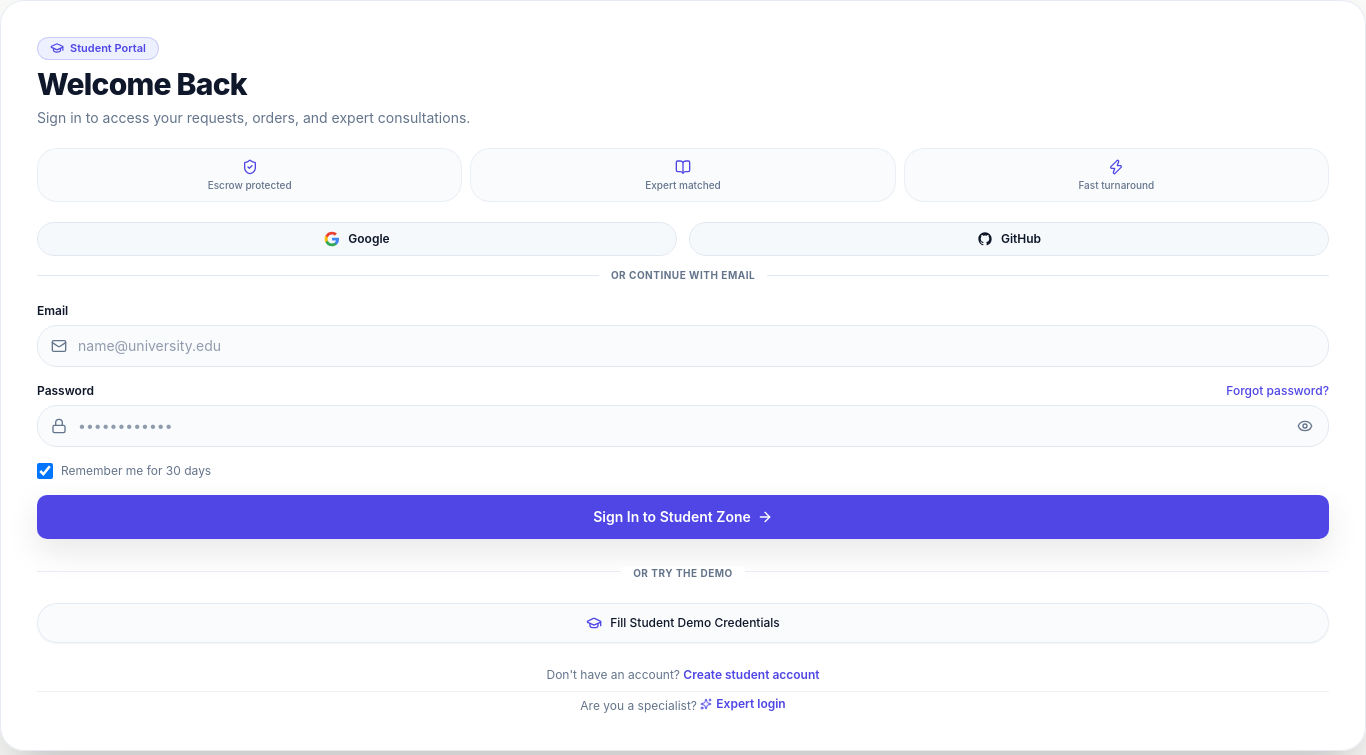
Scenario: login page › maps throttled attempts
Type "student@demo.local" into the field labelled "Email". click: (683, 346)
box: [37,325,1329,367]
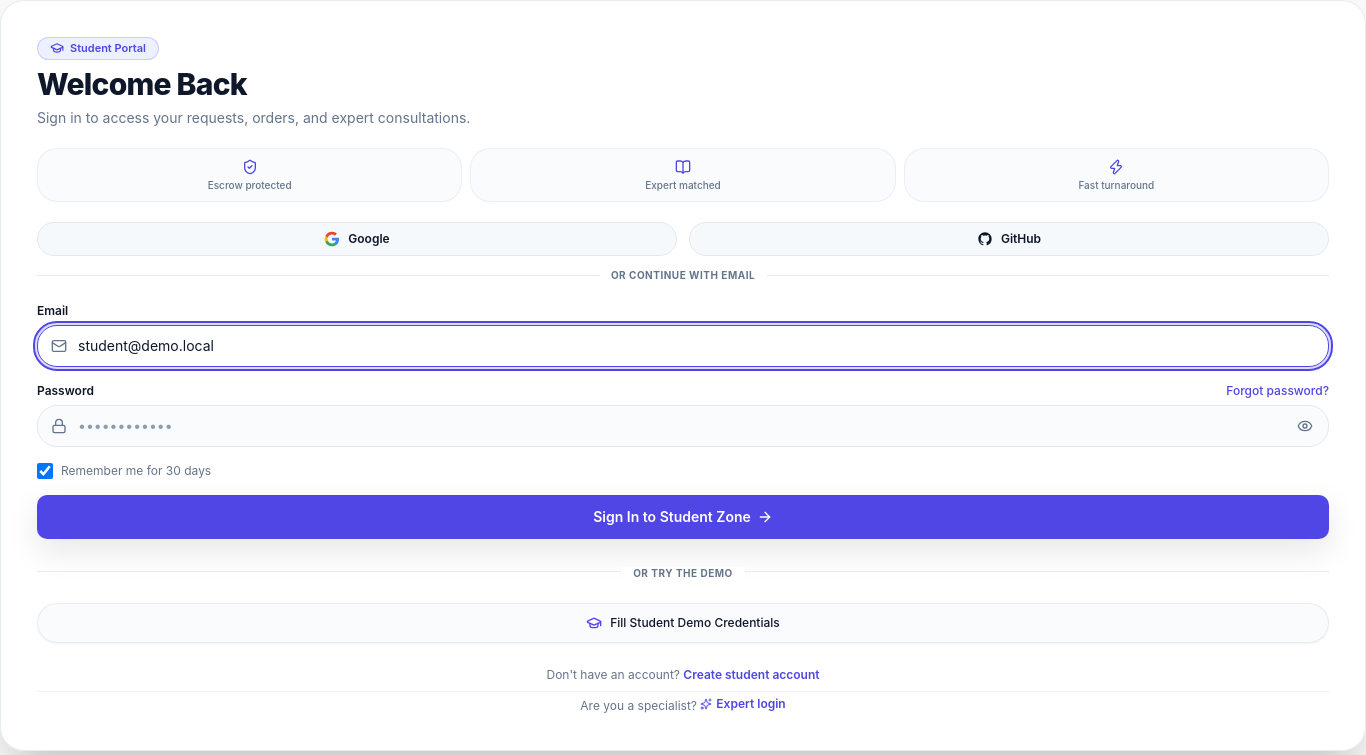
Type "demo-password-1234" into the password field labelled "Password". click: (683, 426)
box: [37,405,1329,447]
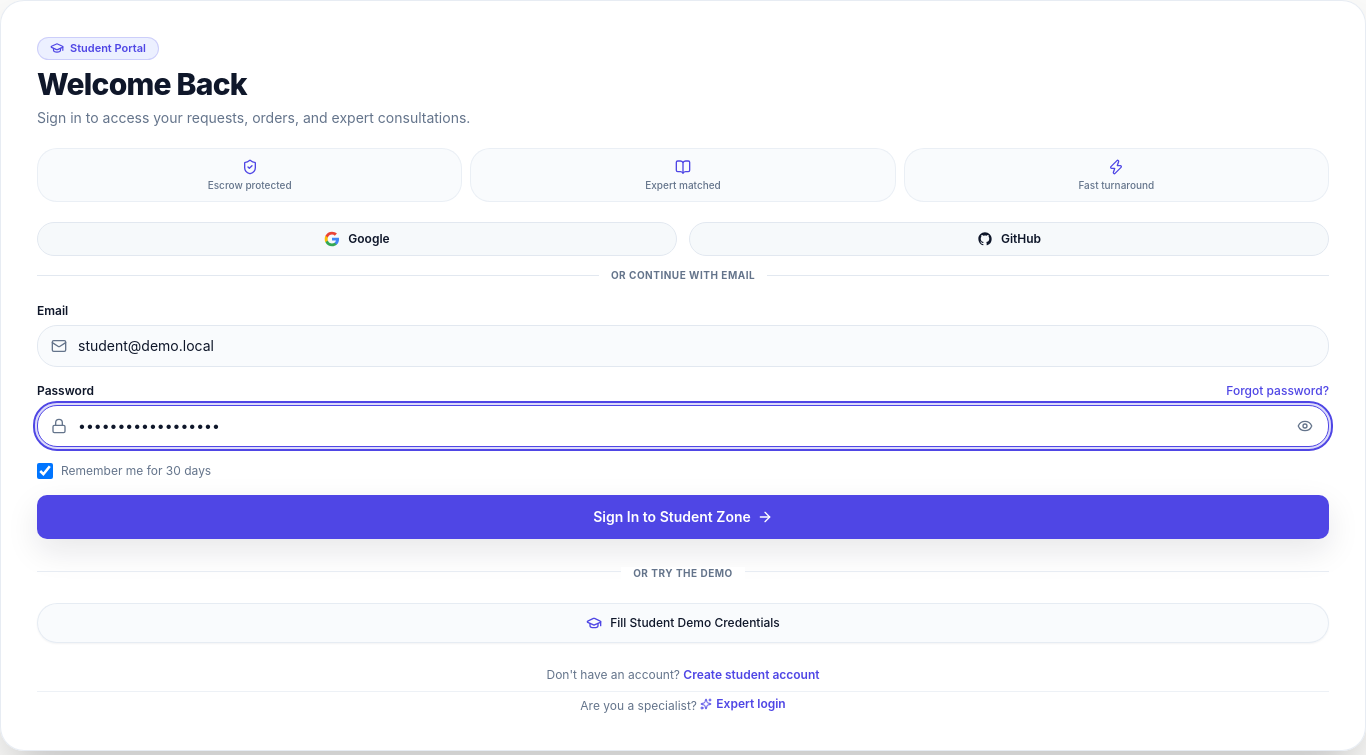
Click the button with test id "login-submit". click: (683, 517)
box: [37,495,1329,539]
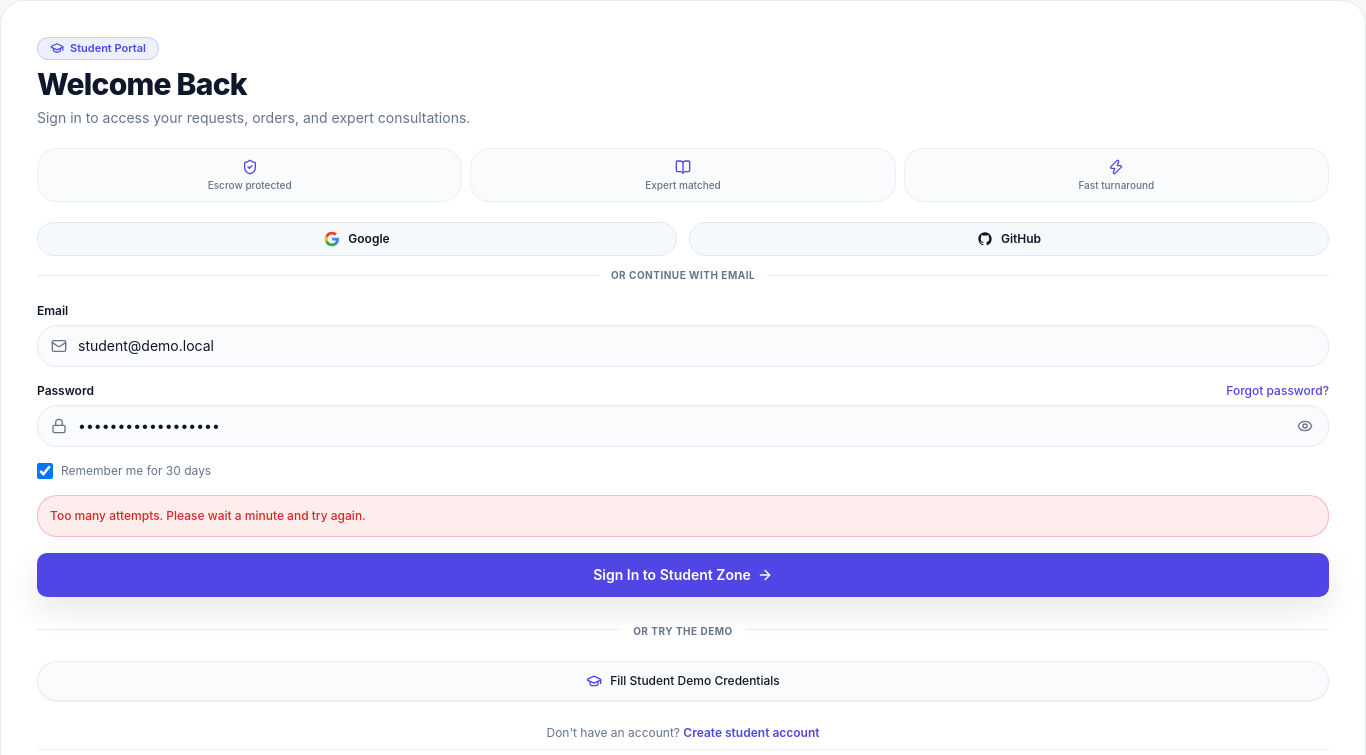
Expected: the message with test id "login-error" shows "Too many attempts", [50,508,366,523]
